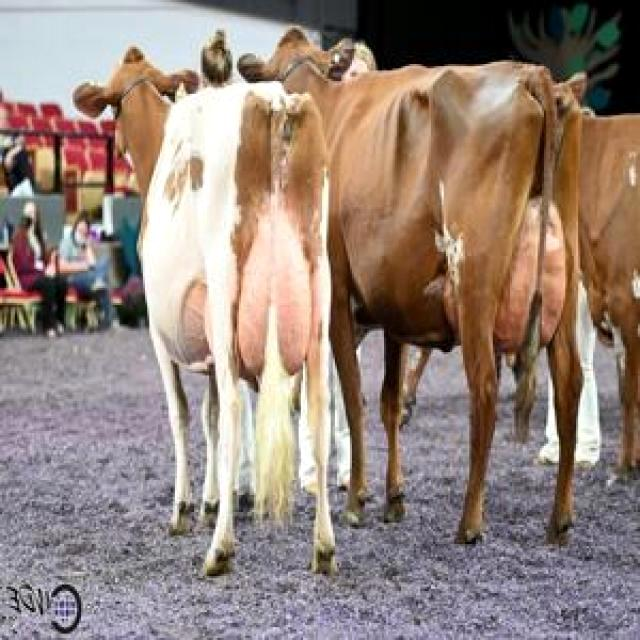COW: (240, 30, 582, 543), (79, 50, 324, 575), (580, 116, 640, 469)
